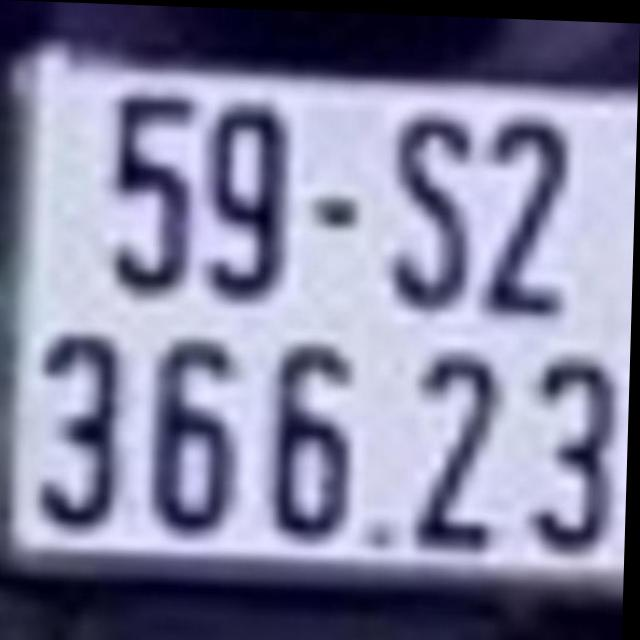2: (404, 342, 507, 548), (483, 110, 578, 316)
3: (37, 322, 130, 540), (534, 345, 621, 547)
5: (109, 88, 203, 282)
6: (269, 330, 363, 539), (152, 333, 245, 534)
9: (203, 103, 297, 291)
S: (393, 103, 479, 306)
